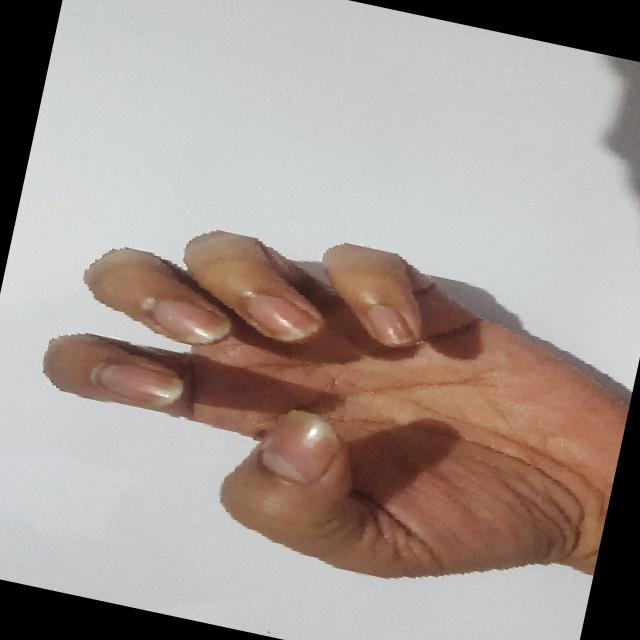Nail: (260, 409, 341, 482), (96, 362, 181, 404), (151, 298, 230, 342), (247, 293, 318, 339), (367, 304, 413, 345)
